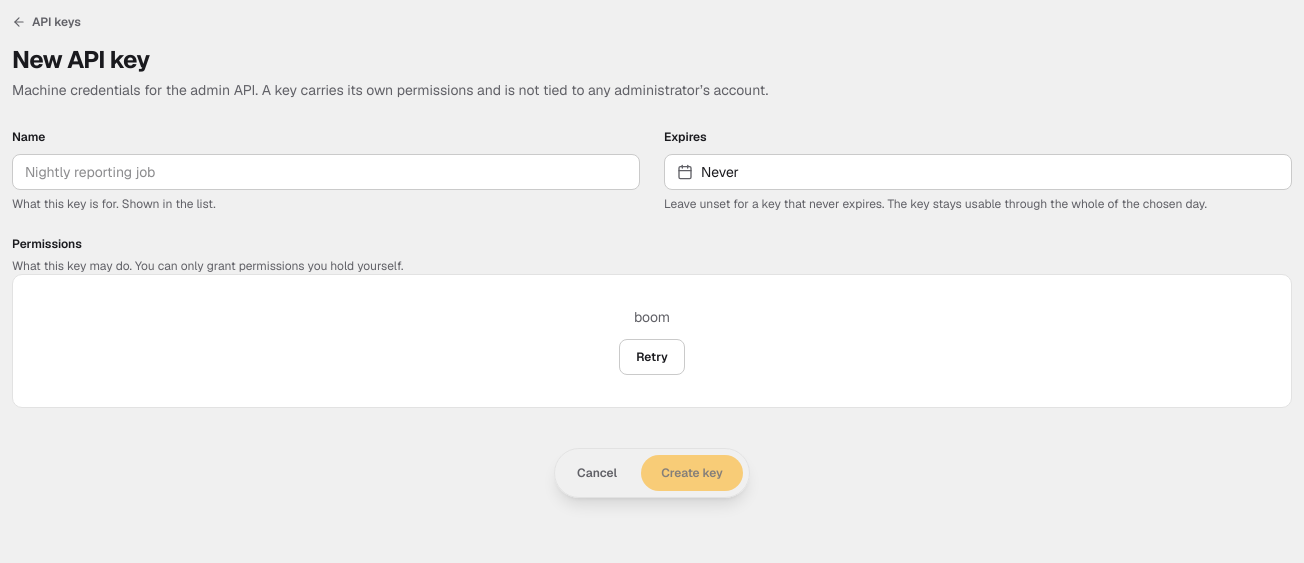
Scenario: NewApiKeyPage — permission catalog › says the catalog failed and offers a retry, rather than rendering nothing
Click the button "Retry" at point(652, 357), box [619,339,685,375]
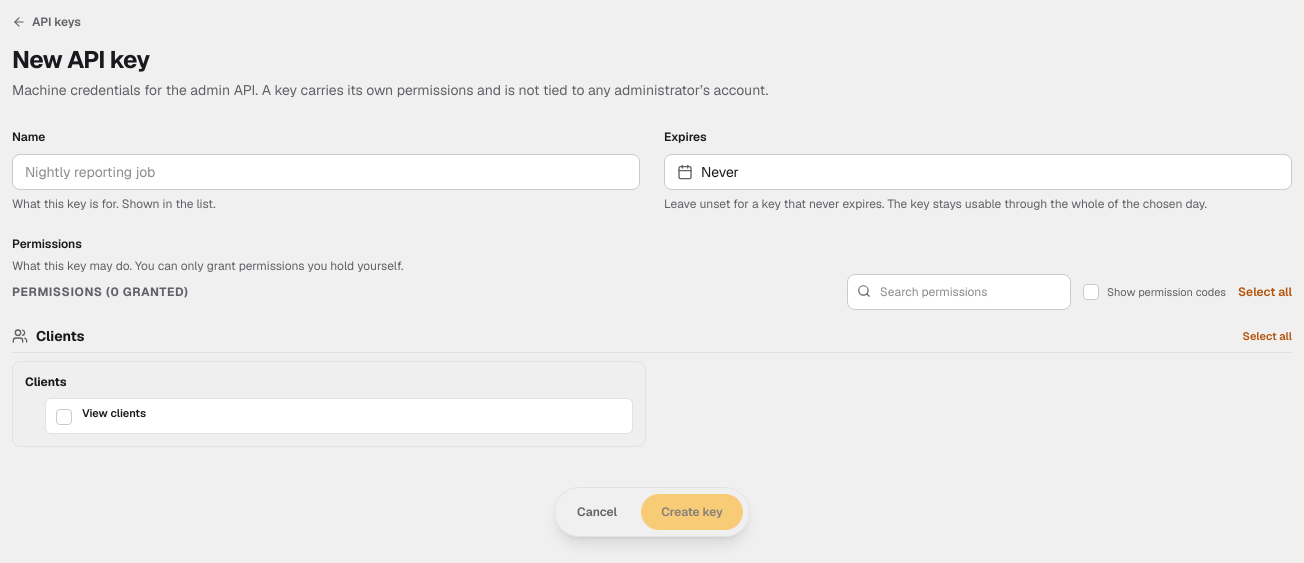
Result: the text "View clients" is shown at [82,407,146,421]
